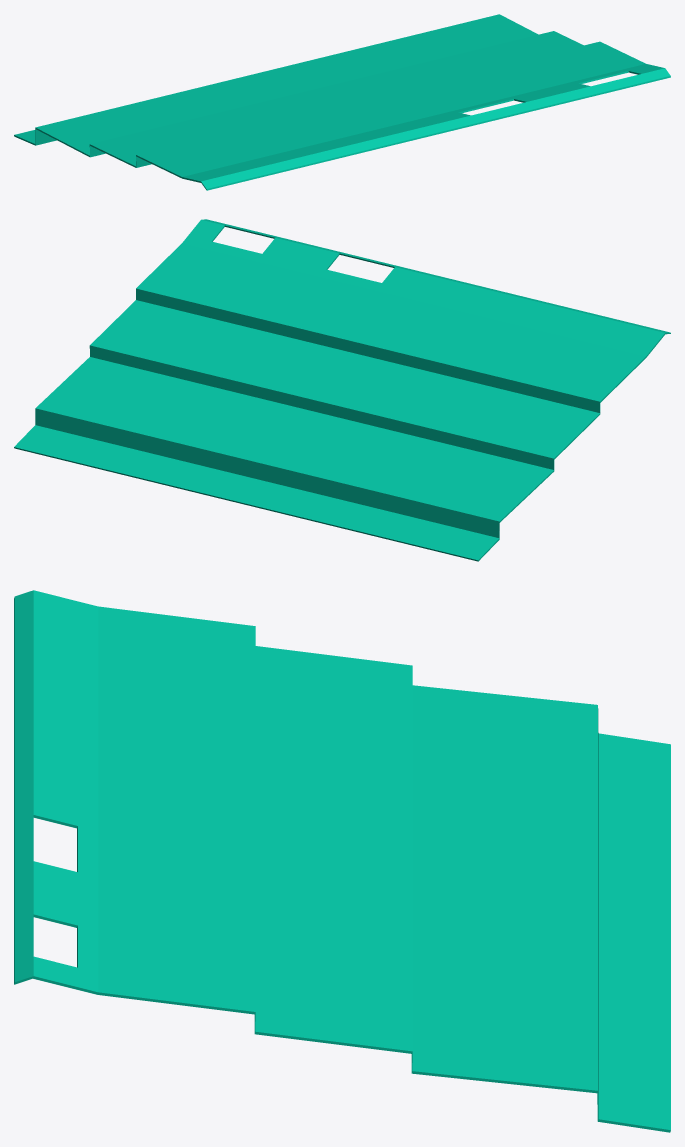
File: m_MetalRoof.fbx
3 renders of one model, top to bottom at view 1: azimuth 30°, elevation 25°; view 2: azimuth 150°, elevation 25°; view 3: azimuth 270°, elevation 25°, orthographic. The views are drawn at different scales.
Parts seen in each view (by area): view 1: TinRoof; view 2: TinRoof; view 3: TinRoof.
Part boxes in pixels (left/top/right/bottom): TinRoof: left=14, top=14, right=670, bottom=190; TinRoof: left=14, top=219, right=670, bottom=561; TinRoof: left=14, top=590, right=670, bottom=1132.
Size of the model in its own units: 6.96 by 1.32 by 5.01.
